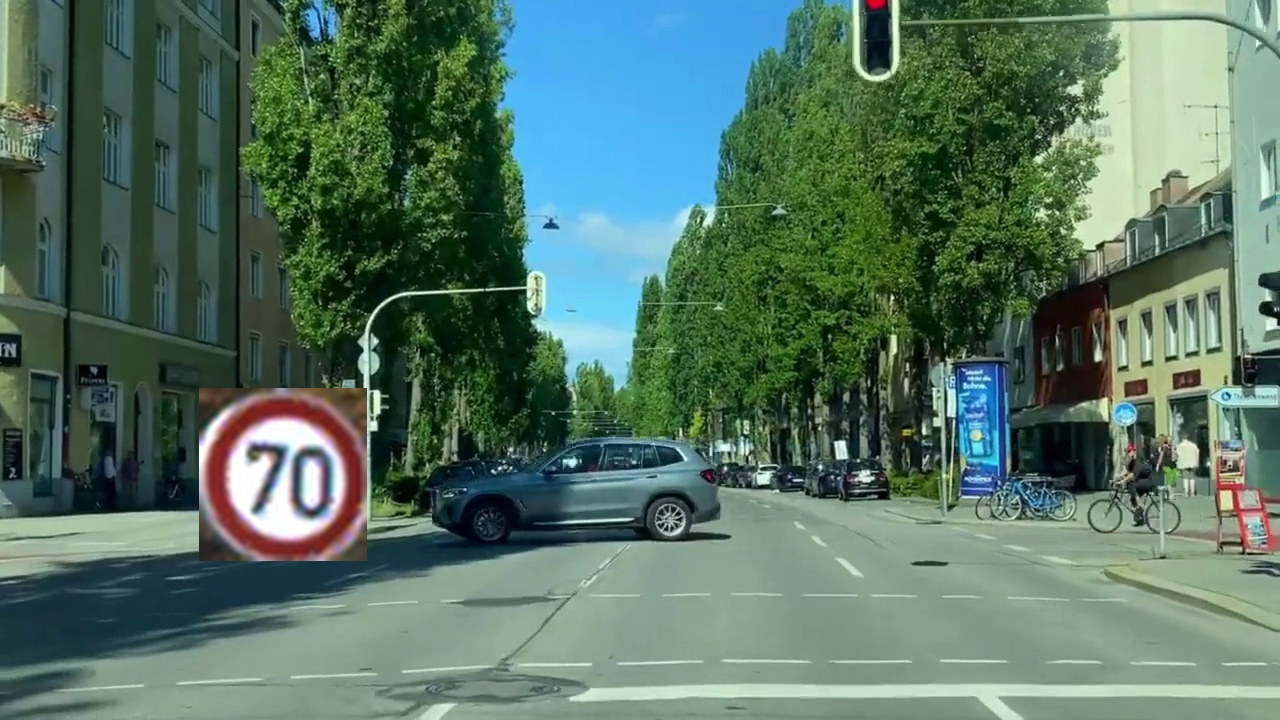Speed 70: (199, 388, 367, 561)
